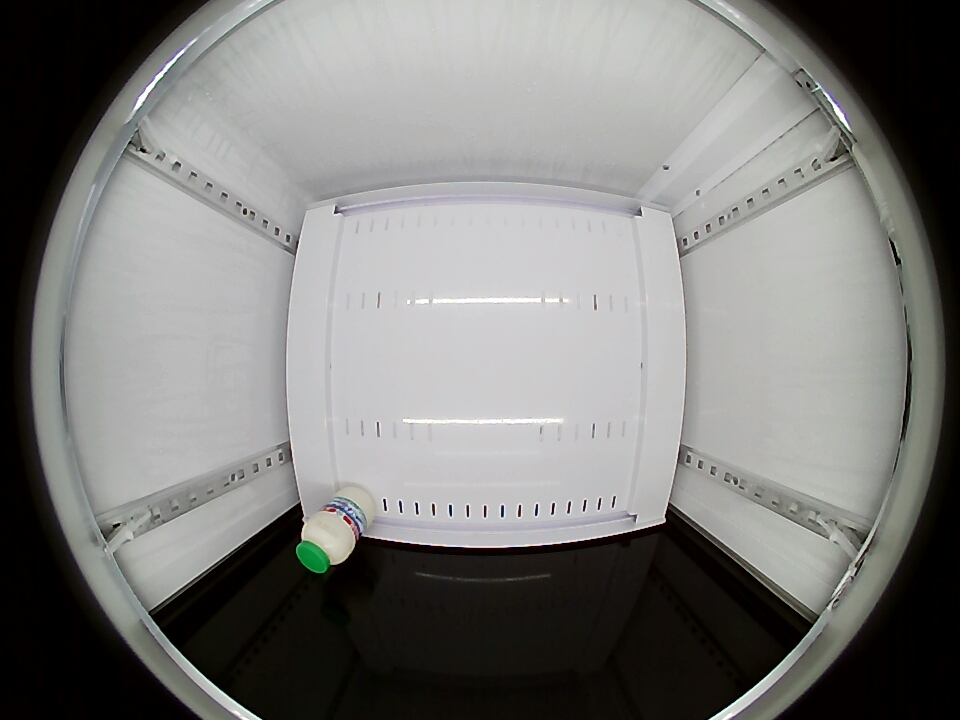liziyuan: (295, 510, 358, 574)
